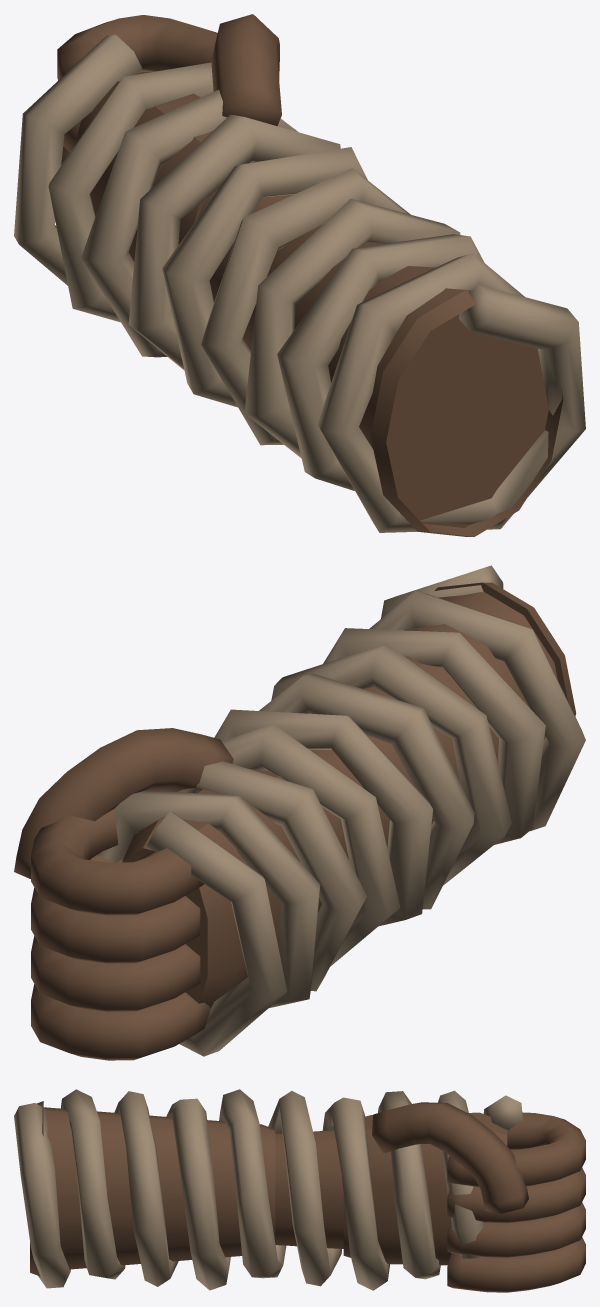
The model's file is rope-gauntlet.glb.
3 views of the same model, one above another, from view 1: azimuth 30°, elevation 25°; view 2: azimuth 150°, elevation 25°; view 3: azimuth 270°, elevation 25° (orthographic). The views are drawn at different scales.
Parts seen in each view (by area): view 1: rope-gauntlet; view 2: rope-gauntlet; view 3: rope-gauntlet.
Boxes of the visible parts, x1,y1,x2,y2 form: rope-gauntlet: [14, 14, 585, 536]; rope-gauntlet: [14, 565, 585, 1060]; rope-gauntlet: [14, 1089, 585, 1292].
Bounding box in the file's own units: 0.16 × 0.1614 × 0.4195.
